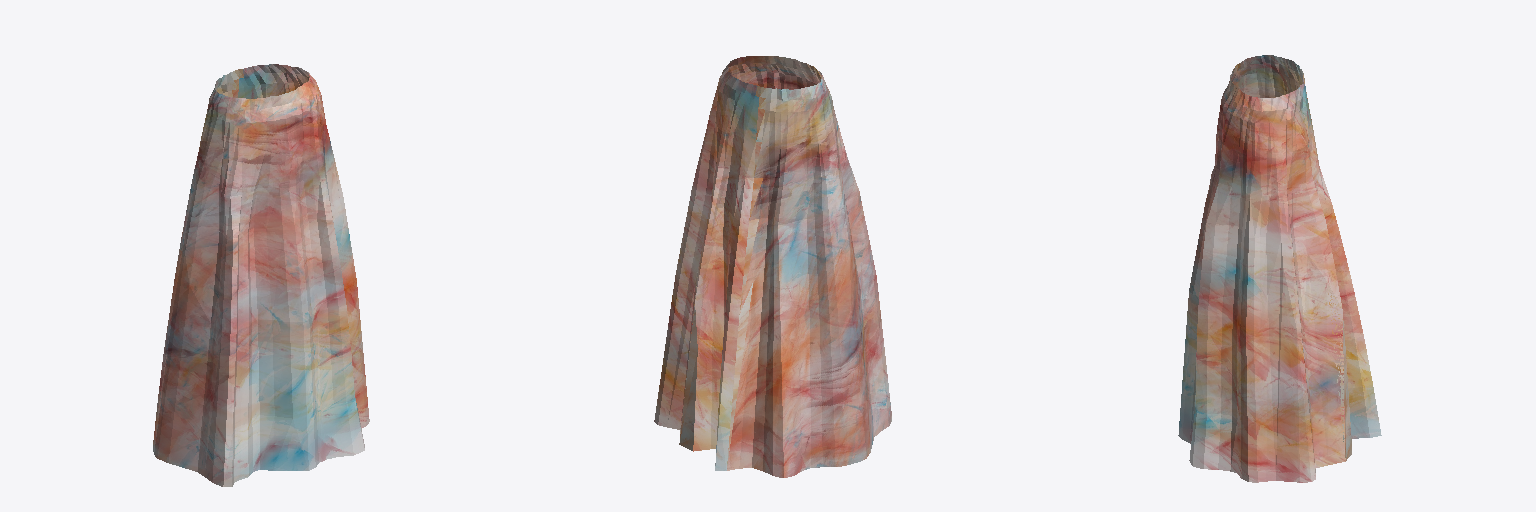
3 views of the same model, side by side, from view 1: azimuth 30°, elevation 25°; view 2: azimuth 150°, elevation 25°; view 3: azimuth 270°, elevation 25° (orthographic).
Parts seen in each view (by area): view 1: Malla de; view 2: Malla de; view 3: Malla de.
Part boxes in pixels (left/top/right/bottom): Malla de: left=153, top=64, right=369, bottom=486; Malla de: left=654, top=56, right=891, bottom=477; Malla de: left=1178, top=55, right=1381, bottom=482.
Size of the model in its own units: 0.3681 by 0.6381 by 0.3278.
Materials: 1 (1 with a texture image).